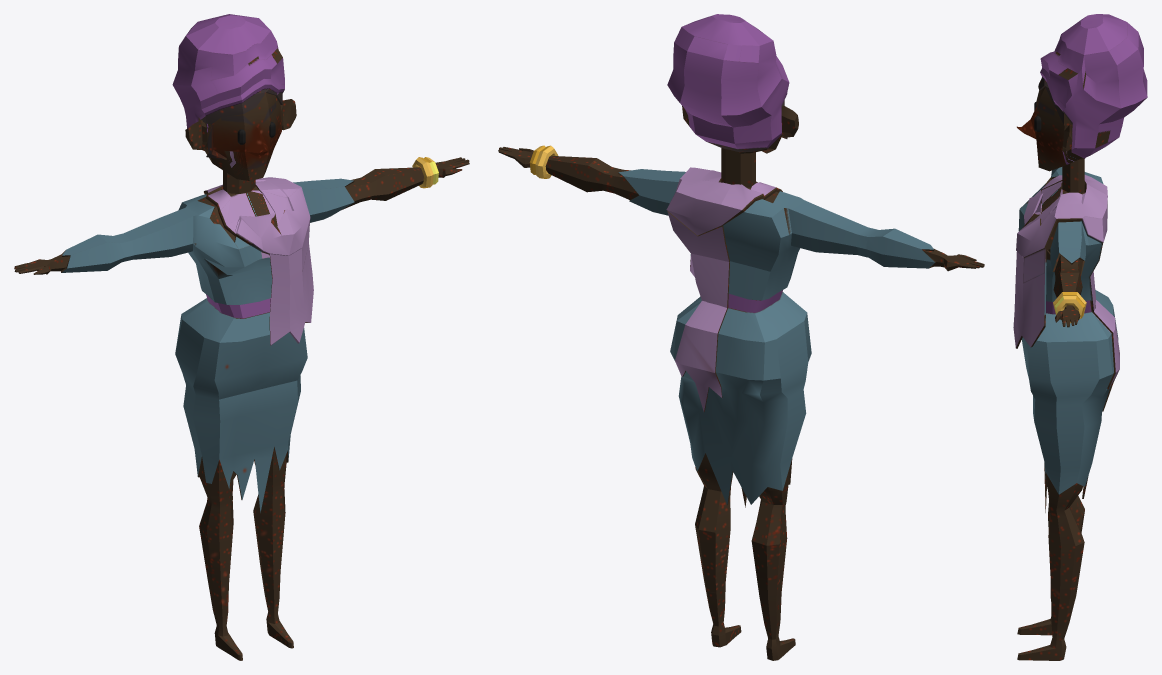
The model's file is bilharziose_w.fbx.
3 renders of one model, left to right at view 1: azimuth 30°, elevation 25°; view 2: azimuth 150°, elevation 25°; view 3: azimuth 270°, elevation 25°, orthographic. The views are drawn at different scales.
Parts seen in each view (by area): view 1: Symmetry_1; view 2: Symmetry_1; view 3: Symmetry_1, Torus.
Boxes of the visible parts, <box> form: Symmetry_1: <box>14,14,469,660</box>; Symmetry_1: <box>498,14,984,660</box>; Symmetry_1: <box>1013,14,1147,660</box>; Torus: <box>1054,296,1084,323</box>.
Size of the model in its own units: 310 by 397 by 77.05.
1 material, 1 textured.
